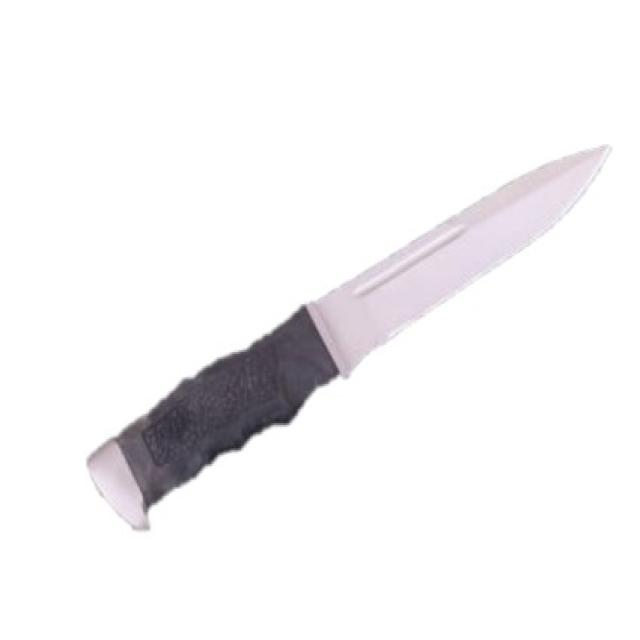knife: (82, 140, 626, 536)
